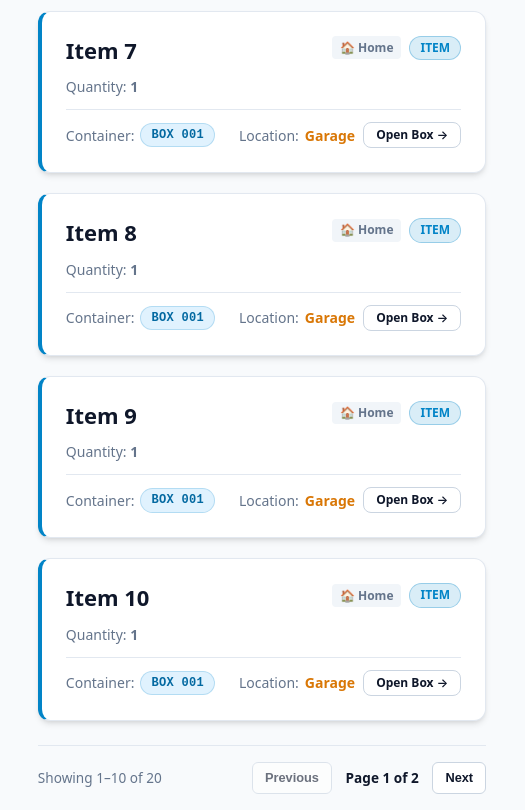
WorkspaceSearch Usability Suite › handles page navigation (Next / Previous)
(page scrolled)
Click the button "Next": (459, 778) [432,762,486,794]
(page scrolled)
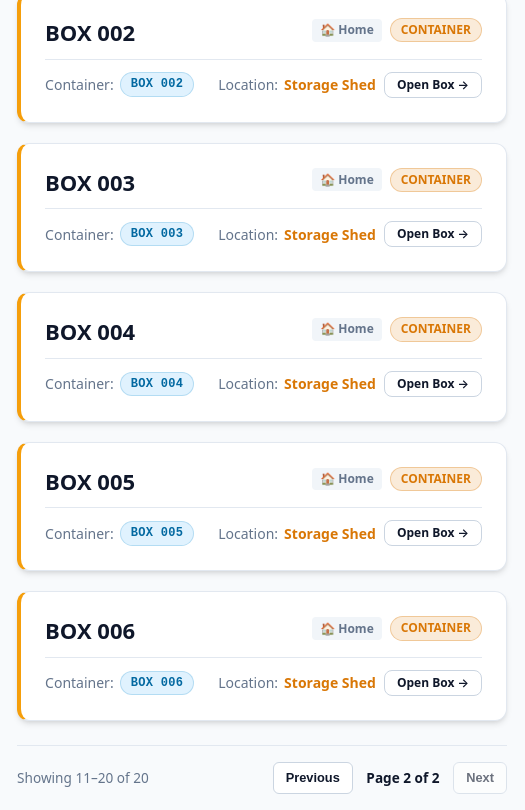
Now the text "Showing 11–20 of 20" is shown, box [17,768,149,788]
Now the text "Page 2 of 2" is shown, box [361,768,445,788]
Now the button "Next" is disabled, box [453,762,507,794]
